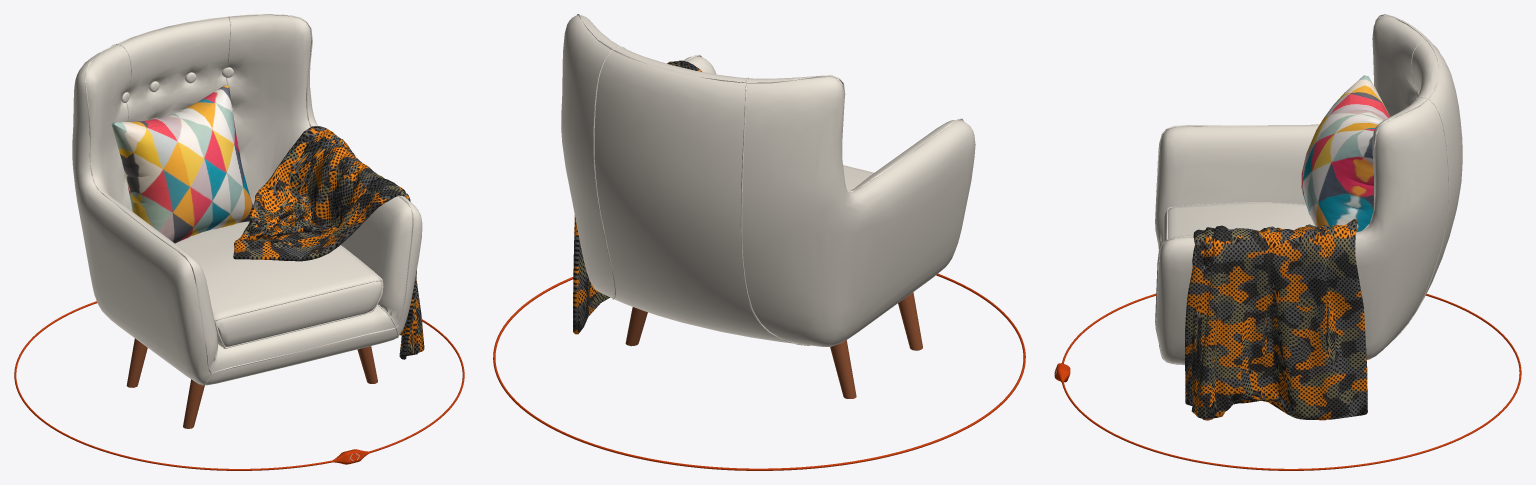
The model's file is SofaWithProgressBar.obj.
The picture shows the model from 3 angles, left to right: view 1: azimuth 30°, elevation 25°; view 2: azimuth 150°, elevation 25°; view 3: azimuth 270°, elevation 25°; orthographic projection. The views are drawn at different scales.
Visible parts, largest first — view 1: Plane_006, Plane_013, Plane_017, Plane_001, Cube, Plane_004, Circle, Plane_010; view 2: Plane_006, Cube, Circle, Plane_017, Plane_005, Plane_004; view 3: Plane_006, Plane_017, Plane_013, Plane_001, Cube, Plane_004, Plane_005.
Boxes of the visible parts, box(x1,y1,x2,y2) form: Plane_006: box(72, 14, 422, 385); Plane_013: box(111, 85, 252, 243); Plane_017: box(233, 126, 424, 359); Plane_001: box(175, 221, 382, 347); Cube: box(14, 301, 464, 470); Plane_004: box(84, 14, 413, 373); Circle: box(126, 338, 377, 428); Plane_010: box(214, 245, 383, 348); Plane_006: box(561, 15, 975, 346); Cube: box(493, 273, 1025, 470); Circle: box(625, 292, 922, 398); Plane_017: box(573, 60, 701, 334); Plane_005: box(593, 46, 809, 345); Plane_004: box(577, 14, 963, 192); Plane_006: box(1155, 15, 1462, 364); Plane_017: box(1185, 219, 1367, 419); Plane_013: box(1301, 75, 1389, 232); Plane_001: box(1163, 202, 1314, 241); Cube: box(1054, 293, 1521, 470); Plane_004: box(1155, 14, 1439, 345); Plane_005: box(1159, 41, 1449, 364).
Size of the model in its own units: 2.21 by 1.65 by 2.24.
Materials: 7 (2 with a texture image).
